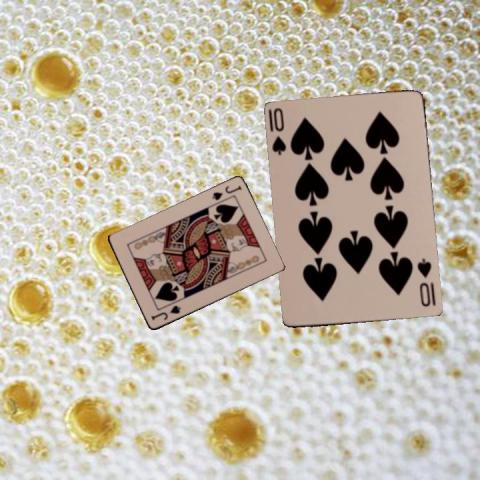10s: (414, 256, 433, 308), (269, 105, 288, 157)
Js: (148, 303, 182, 322), (209, 183, 243, 202)
